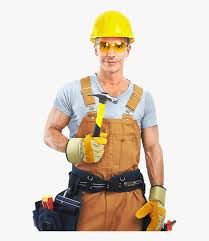Person_wearing_helmet: (87, 5, 137, 52)
